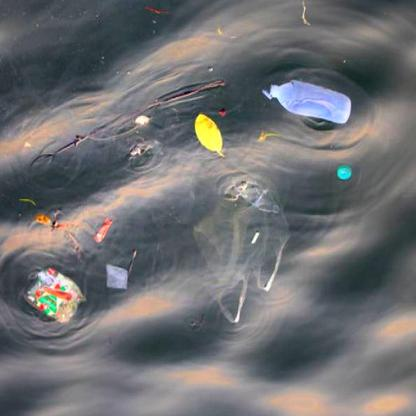plastic bag: (194, 173, 289, 322), (22, 267, 86, 324)
plastic bottle: (268, 77, 351, 123)
